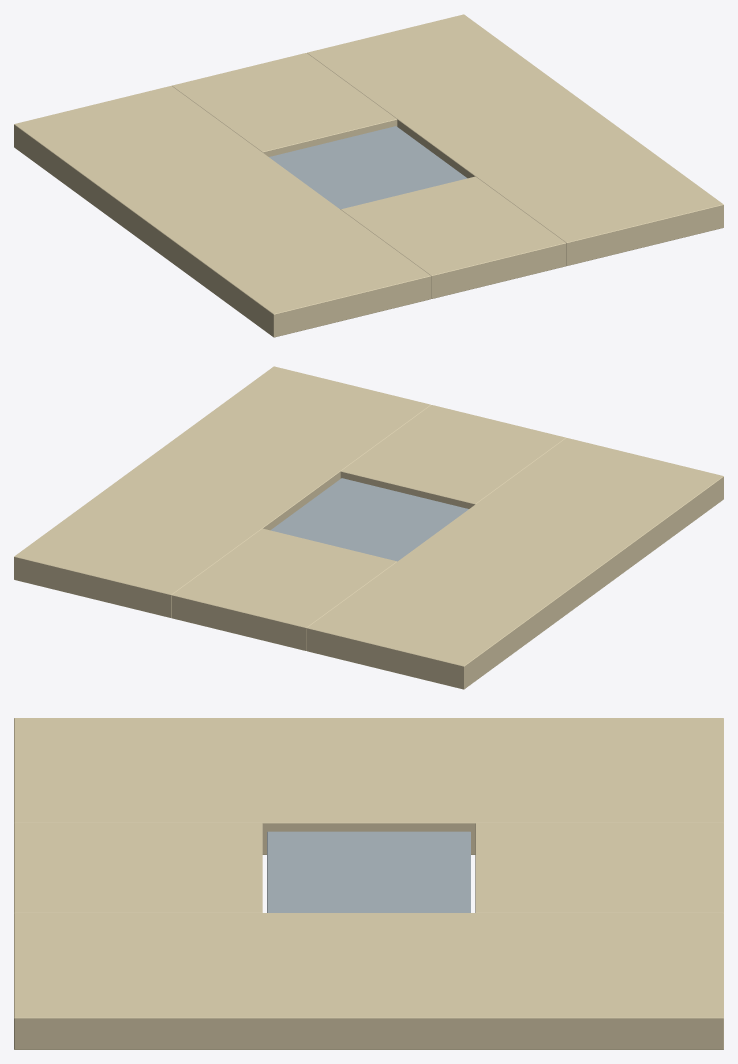
The model's file is b21_ceiling_service_hatch_2x2m.glb.
The picture shows the model from 3 angles, top to bottom: view 1: azimuth 30°, elevation 25°; view 2: azimuth 150°, elevation 25°; view 3: azimuth 270°, elevation 25°; orthographic projection. The views are drawn at different scales.
Visible parts, largest first — view 1: b21_ceiling_service_hatch_2x2m; view 2: b21_ceiling_service_hatch_2x2m; view 3: b21_ceiling_service_hatch_2x2m.
Boxes of the visible parts, left/top/right/bottom form: b21_ceiling_service_hatch_2x2m: left=14, top=14, right=723, bottom=337; b21_ceiling_service_hatch_2x2m: left=14, top=366, right=723, bottom=689; b21_ceiling_service_hatch_2x2m: left=14, top=718, right=723, bottom=1049.
Size of the model in its own units: 2 by 0.1 by 2.
